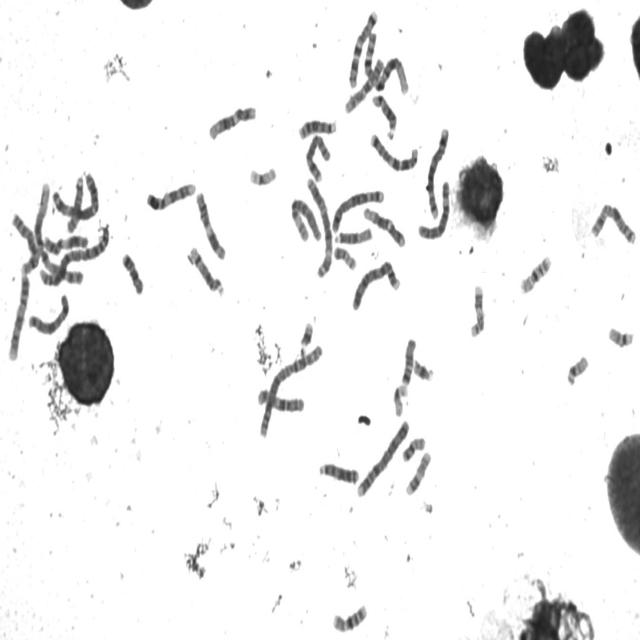A1: (19, 179, 52, 277), (362, 29, 410, 96)
A2: (256, 340, 324, 440), (36, 219, 112, 287)
A3: (305, 174, 335, 280), (50, 168, 101, 222)
B4: (354, 415, 410, 499), (349, 256, 402, 313)
B5: (329, 186, 386, 233), (424, 122, 450, 220)
C10: (342, 54, 386, 115), (255, 383, 306, 414)
C11: (194, 187, 227, 262), (42, 229, 90, 256)
C12: (361, 203, 407, 249), (206, 101, 258, 141)
C6: (416, 176, 452, 242), (288, 193, 323, 244)
C7: (346, 4, 380, 91), (368, 129, 420, 173)
C8: (9, 210, 42, 274), (304, 130, 332, 184)
C9: (6, 270, 31, 362), (144, 179, 197, 212)
D13: (317, 458, 360, 486), (296, 114, 338, 142)
D14: (187, 243, 226, 298), (370, 90, 397, 138)
D15: (64, 171, 86, 234), (332, 224, 373, 246)
E16: (517, 251, 553, 296), (330, 600, 369, 634)
E17: (404, 448, 432, 497), (468, 280, 486, 340)
E18: (119, 248, 145, 296), (399, 335, 417, 387)
F19: (247, 162, 278, 188), (392, 381, 409, 418)
F20: (331, 242, 358, 272), (401, 432, 426, 463)
G21: (411, 355, 435, 383), (298, 317, 314, 349)
G22: (565, 351, 590, 388), (606, 322, 635, 349)
X: (589, 200, 638, 246), (26, 290, 71, 336)
